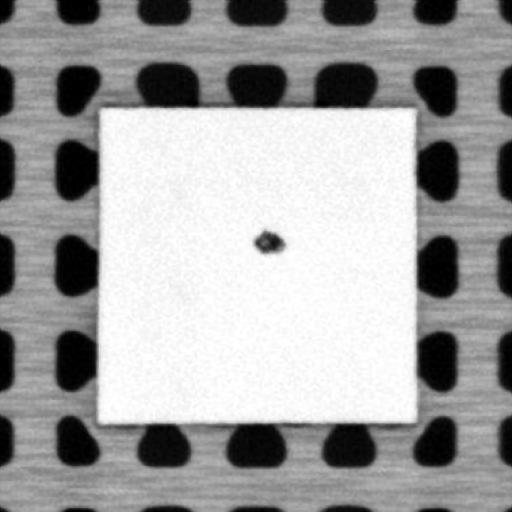DIE_INK: (251, 224, 283, 254)
